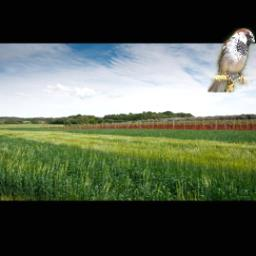Sparrow: (209, 28, 256, 92)
